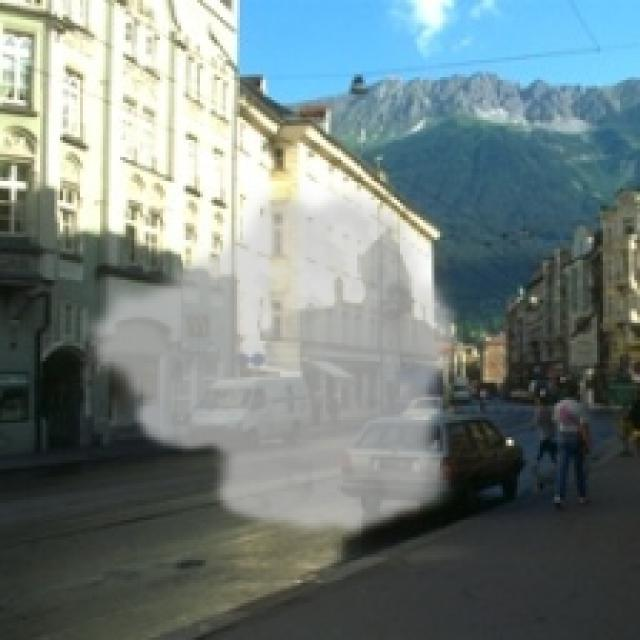Smoke: (77, 180, 463, 540)
